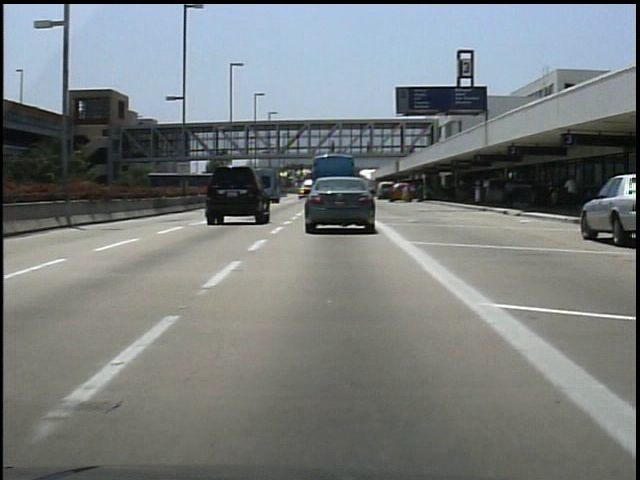person: (561, 171, 580, 213), (501, 175, 519, 212), (413, 179, 429, 205), (401, 179, 416, 206), (364, 138, 377, 160), (327, 135, 341, 155)
